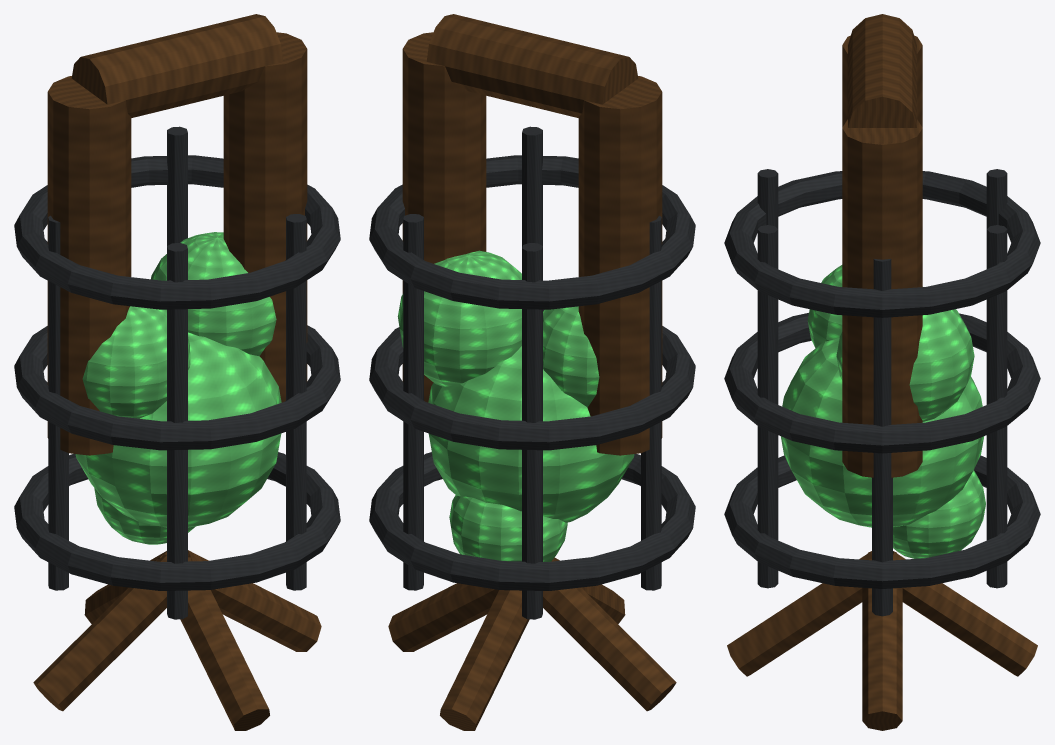
Rendered from underworld-tool-sporelight-lantern.glb.
3 renders of one model, left to right at view 1: azimuth 30°, elevation 25°; view 2: azimuth 150°, elevation 25°; view 3: azimuth 270°, elevation 25°, orthographic. The views are drawn at different scales.
Parts seen in each view (by area): view 1: root-handle, root-handle-r, glowcap-0, iron-cage-0.9, iron-cage-0.38, handle-crown, iron-cage-0.64, glowcap-2, root-foot-2, cage-rib-4, glowcap-1, cage-rib-5 (+6 smaller); view 2: root-handle, root-handle-r, glowcap-0, iron-cage-0.9, iron-cage-0.38, handle-crown, iron-cage-0.64, glowcap-1, root-foot-2, cage-rib-2, cage-rib-1, root-foot-1 (+6 smaller); view 3: root-handle-r, iron-cage-0.9, glowcap-0, iron-cage-0.64, iron-cage-0.38, handle-crown, cage-rib-1, cage-rib-5, cage-rib-0, glowcap-1, root-foot-1, root-foot-3 (+6 smaller).
Part boxes in pixels (<box>): root-handle: <box>47,76,131,455</box>; root-handle-r: <box>223,32,307,402</box>; glowcap-0: <box>75,332,281,527</box>; iron-cage-0.9: <box>14,155,340,309</box>; iron-cage-0.38: <box>14,452,340,590</box>; handle-crown: <box>71,14,283,117</box>; iron-cage-0.64: <box>14,325,340,450</box>; glowcap-2: <box>82,306,190,418</box>; root-foot-2: <box>33,553,166,711</box>; cage-rib-4: <box>167,243,187,619</box>; glowcap-1: <box>151,232,276,356</box>; cage-rib-5: <box>286,214,306,590</box>; root-handle: <box>578,76,662,455</box>; root-handle-r: <box>402,32,486,402</box>; glowcap-0: <box>428,346,634,522</box>; iron-cage-0.9: <box>369,155,695,309</box>; iron-cage-0.38: <box>369,452,695,590</box>; handle-crown: <box>426,14,638,117</box>; iron-cage-0.64: <box>369,309,695,450</box>; glowcap-1: <box>397,250,521,386</box>; root-foot-2: <box>543,559,676,711</box>; cage-rib-2: <box>522,243,542,619</box>; cage-rib-1: <box>403,214,423,590</box>; root-foot-1: <box>440,590,529,730</box>; root-handle-r: <box>842,119,922,477</box>; iron-cage-0.9: <box>724,171,1040,317</box>; glowcap-0: <box>780,338,984,527</box>; iron-cage-0.64: <box>724,313,1040,453</box>; iron-cage-0.38: <box>724,455,1040,588</box>; handle-crown: <box>848,14,916,127</box>; cage-rib-1: <box>986,225,1007,588</box>; cage-rib-5: <box>757,225,778,588</box>; cage-rib-0: <box>872,259,892,616</box>; glowcap-1: <box>836,309,974,421</box>; root-foot-1: <box>893,551,1037,676</box>; root-foot-3: <box>727,551,871,676</box>.
Bounding box in the file's own units: 0.55 × 1.19 × 0.55.
Materials: 3 (3 with a texture image).
